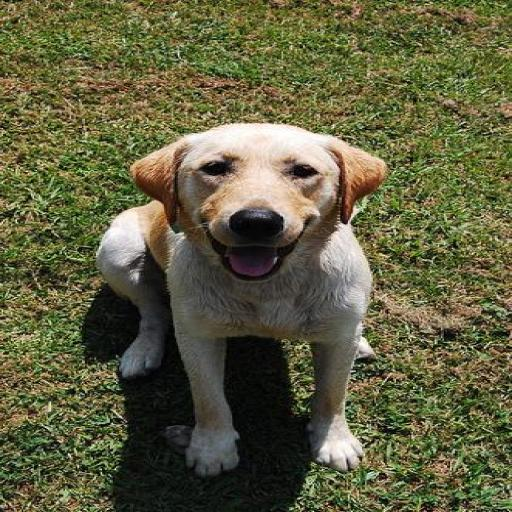dog_face: (142, 125, 389, 265)
